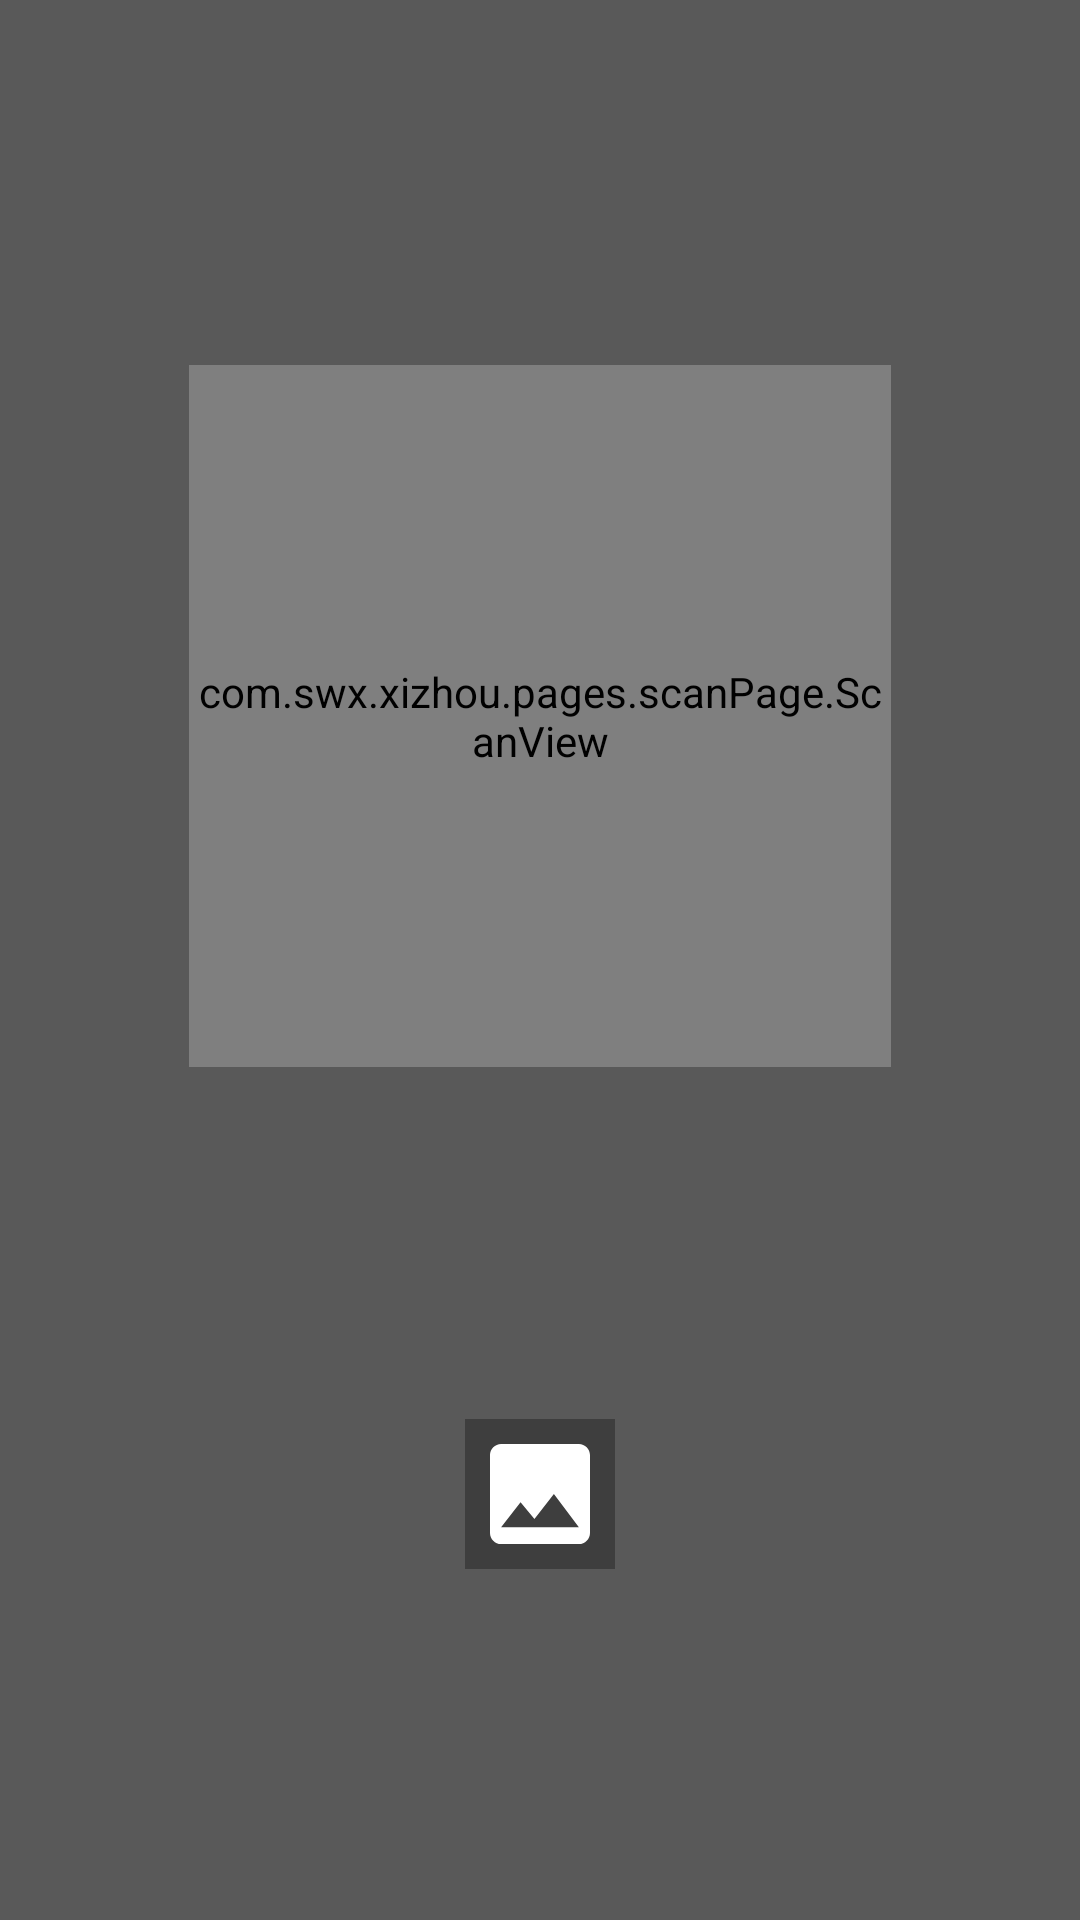

Where to tap for icons on this 1080×1920 app screen, as (x,y):
album: (540,1494)
